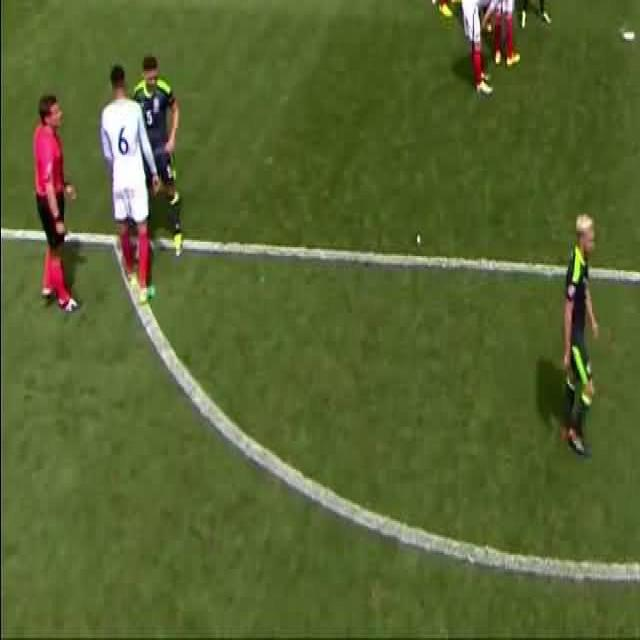player-white: (98, 64, 158, 303), (132, 56, 186, 256), (33, 93, 77, 313), (561, 210, 598, 454), (460, 0, 512, 94), (486, 0, 520, 64), (464, 0, 498, 30), (519, 0, 551, 26), (440, 0, 463, 16), (427, 0, 451, 4)
